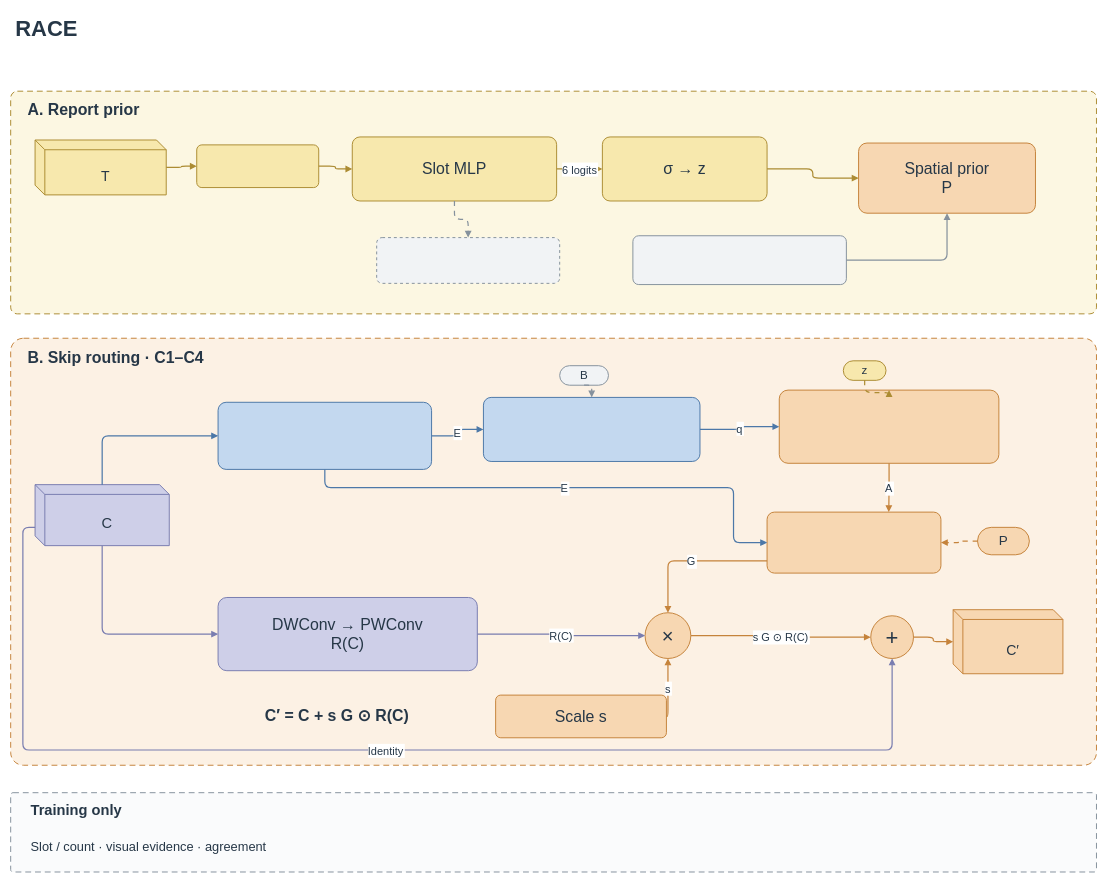
Image size: 1108x883. Some labels were removed from this diagram. The centre of each missing label's shape, as x and y in pixels:
"Agreement A" belongs at [888,426].
"Anatomical basis B" belongs at [739,260].
"Conv ×2 → σ E" belongs at [324,436].
"Count (train only)" belongs at [468,260].
"Masked mean" belongs at [257,166].
"P × E × A" belongs at [853,542].
"Zone pooling" belongs at [591,429].
